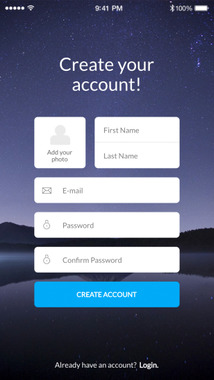_form_: (1, 1, 214, 380)
button: (33, 280, 181, 308)
field: (32, 245, 181, 274), (33, 176, 181, 203), (33, 211, 180, 238), (95, 115, 181, 144), (93, 144, 181, 168)
